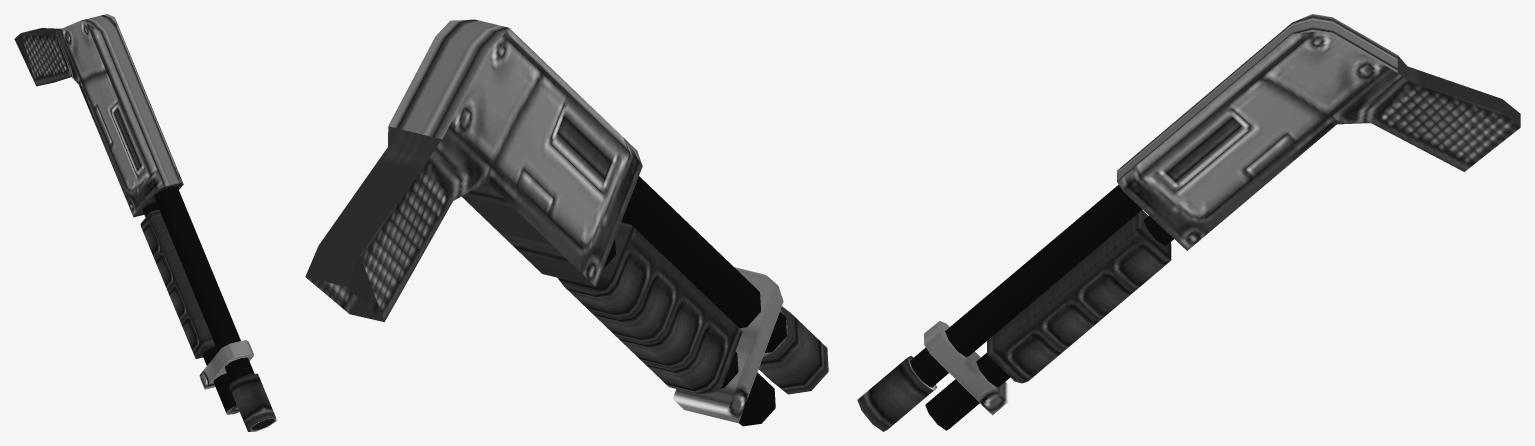
File: p_smallshotgun.glb
3 views of the same model, side by side, from view 1: azimuth 30°, elevation 25°; view 2: azimuth 150°, elevation 25°; view 3: azimuth 270°, elevation 25° (orthographic). The views are drawn at different scales.
Visible parts, largest first — view 1: p_smallshotgun; view 2: p_smallshotgun; view 3: p_smallshotgun.
Part boxes in pixels (<box>): p_smallshotgun: <box>14,14,276,431</box>; p_smallshotgun: <box>305,19,828,426</box>; p_smallshotgun: <box>857,14,1520,431</box>.
Size of the model in its own units: 1.69 by 16.42 by 24.28.
2 materials, 2 textured.
